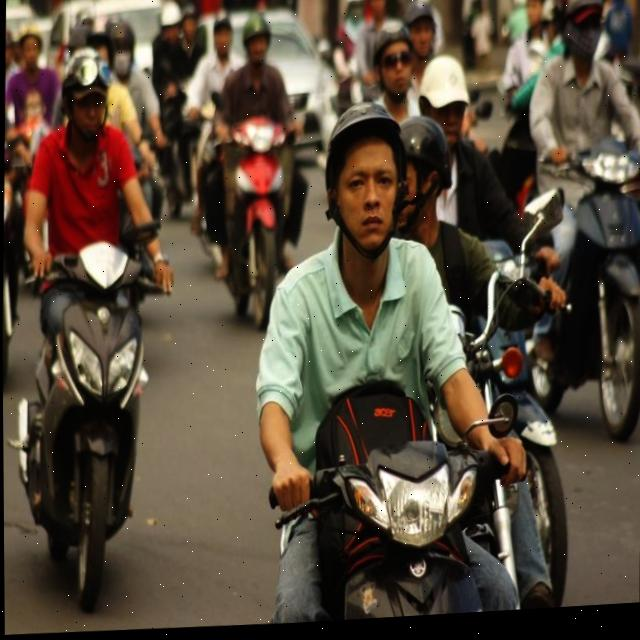motorcycle: (258, 372, 544, 625), (5, 226, 182, 625), (533, 132, 640, 459), (198, 93, 313, 334)
